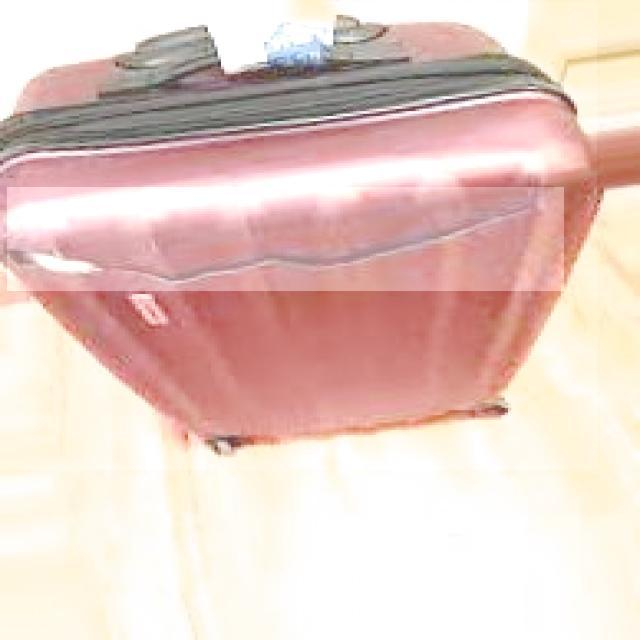Damage-bag: (8, 189, 562, 289)
